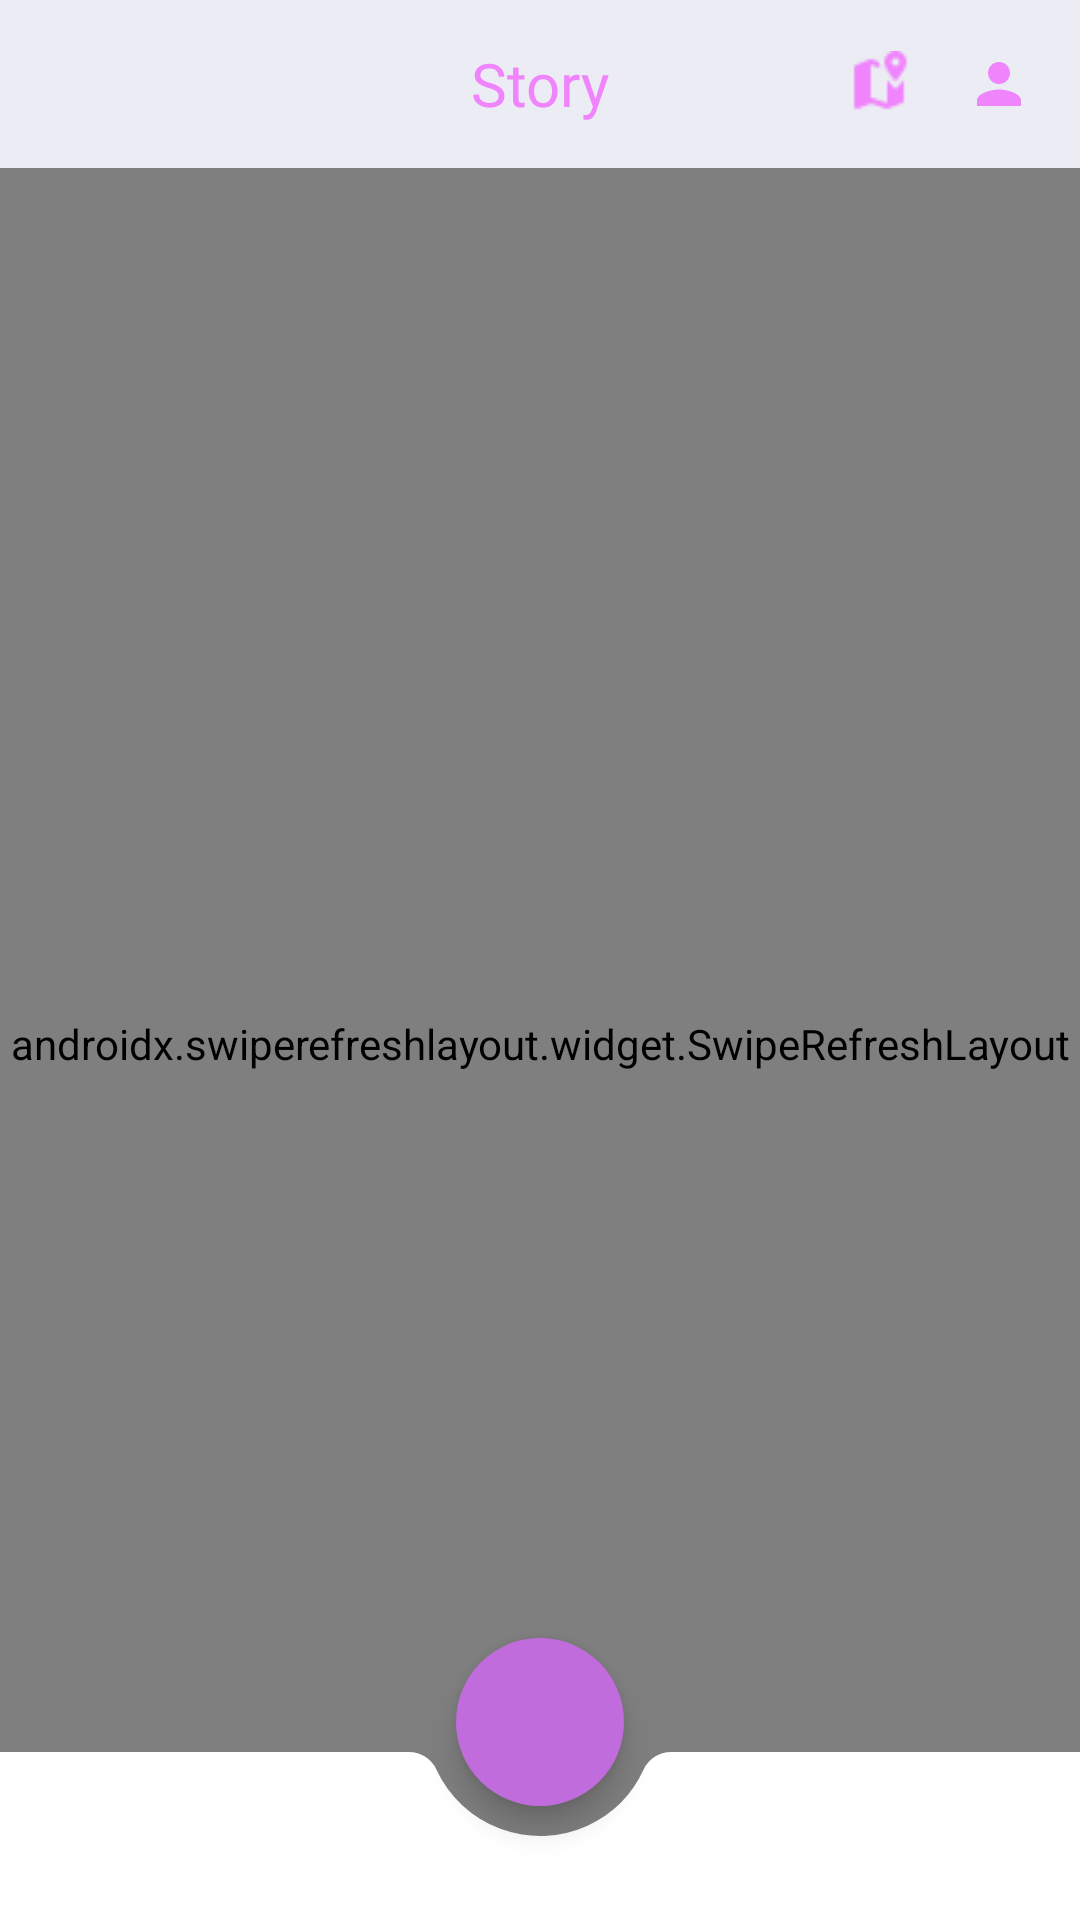

Where icons sit on this 1080w x 1920h app screen, as bbox(x1, y1, x2, y2):
map marker: bbox(854, 51, 907, 109)
profile: bbox(977, 62, 1021, 106)
